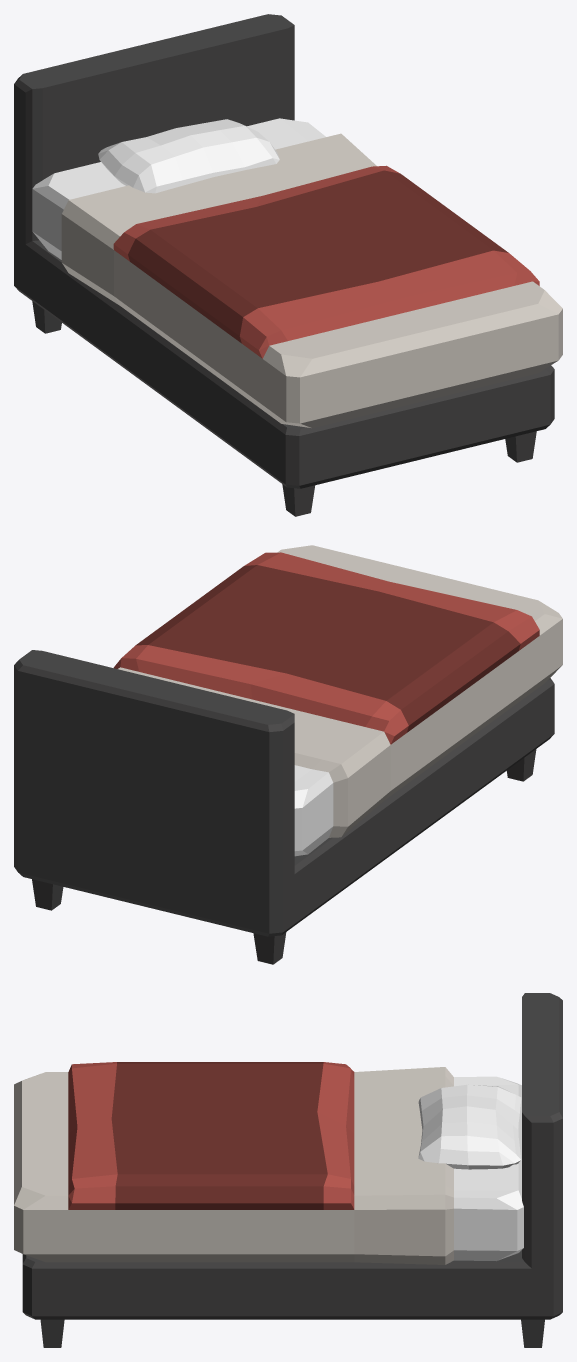
The model's file is SM_Prop_Bed_Single_03.fbx.
The picture shows the model from 3 angles, top to bottom: view 1: azimuth 30°, elevation 25°; view 2: azimuth 150°, elevation 25°; view 3: azimuth 270°, elevation 25°; orthographic projection. The views are drawn at different scales.
Visible parts, largest first — view 1: SM_Prop_Bed_Single_03; view 2: SM_Prop_Bed_Single_03; view 3: SM_Prop_Bed_Single_03.
Boxes of the visible parts, x1,y1,x2,y2 form: SM_Prop_Bed_Single_03: [14, 14, 562, 516]; SM_Prop_Bed_Single_03: [14, 545, 562, 964]; SM_Prop_Bed_Single_03: [14, 993, 562, 1347].
Size of the model in its own units: 151 by 125 by 261.
